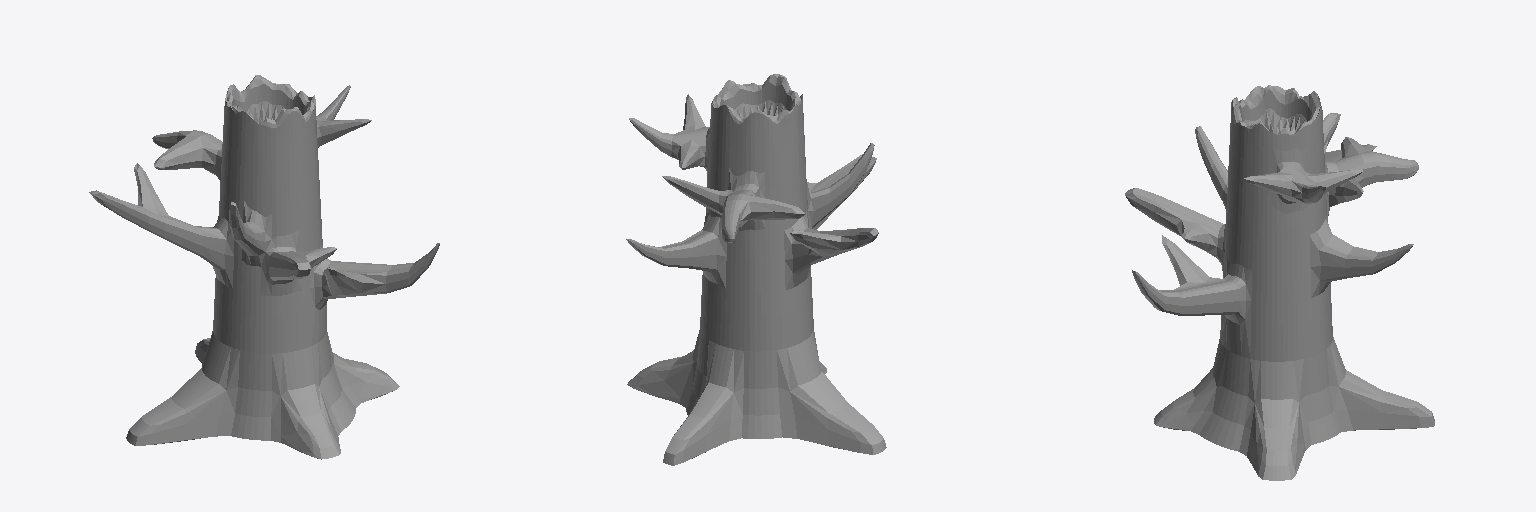
The model's file is NewClimbingTree.obj.
The picture shows the model from 3 angles: view 1: azimuth 30°, elevation 25°; view 2: azimuth 150°, elevation 25°; view 3: azimuth 270°, elevation 25°; orthographic projection.
Parts seen in each view (by area): view 1: Cylinder; view 2: Cylinder; view 3: Cylinder.
Boxes of the visible parts, x1=… form: Cylinder: x1=89, y1=75, x2=439, y2=459; Cylinder: x1=626, y1=74, x2=886, y2=465; Cylinder: x1=1125, y1=85, x2=1434, y2=480.
Size of the model in its own units: 12.88 by 14.5 by 12.63.